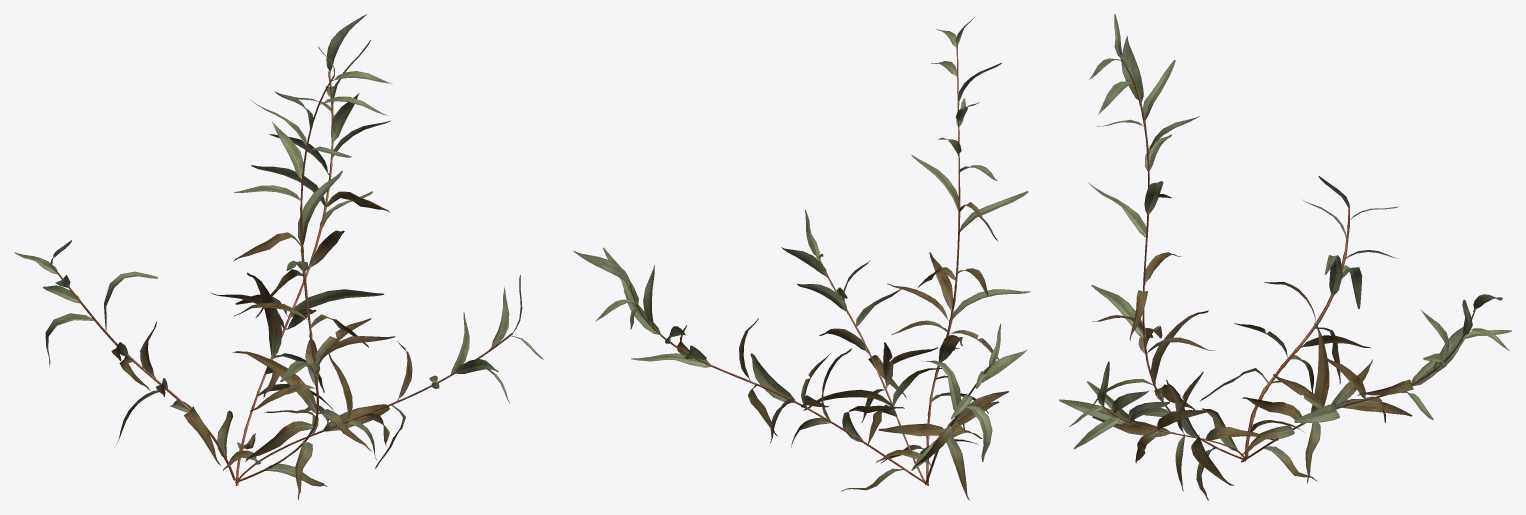
File: shrub_02_3.glb
3 views of the same model, side by side, from view 1: azimuth 30°, elevation 25°; view 2: azimuth 150°, elevation 25°; view 3: azimuth 270°, elevation 25° (orthographic). The views are drawn at different scales.
Parts seen in each view (by area): view 1: shrub_02_d; view 2: shrub_02_d; view 3: shrub_02_d.
Part boxes in pixels (box(x1,y1,x2,y2)): shrub_02_d: box(14, 14, 543, 500); shrub_02_d: box(573, 16, 1030, 500); shrub_02_d: box(1059, 14, 1511, 500).
Bounding box in the file's own units: 1.08 × 1.23 × 1.1.
Materials: 1 (1 with a texture image).
